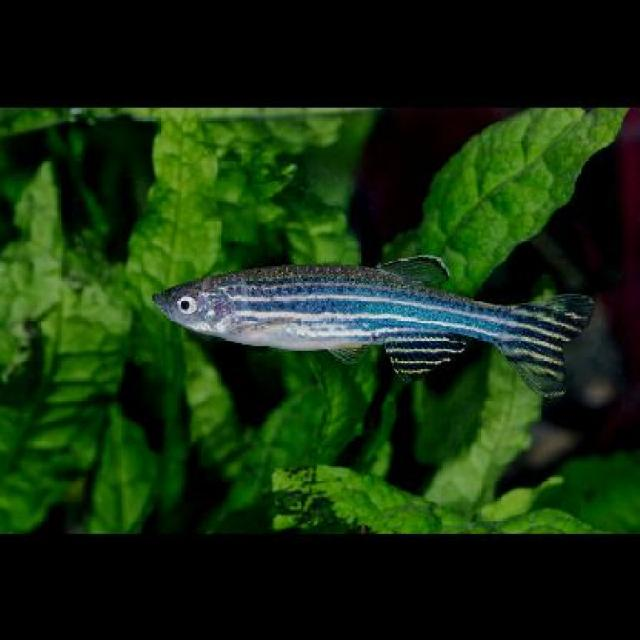ZebraFish: (152, 248, 593, 395)
